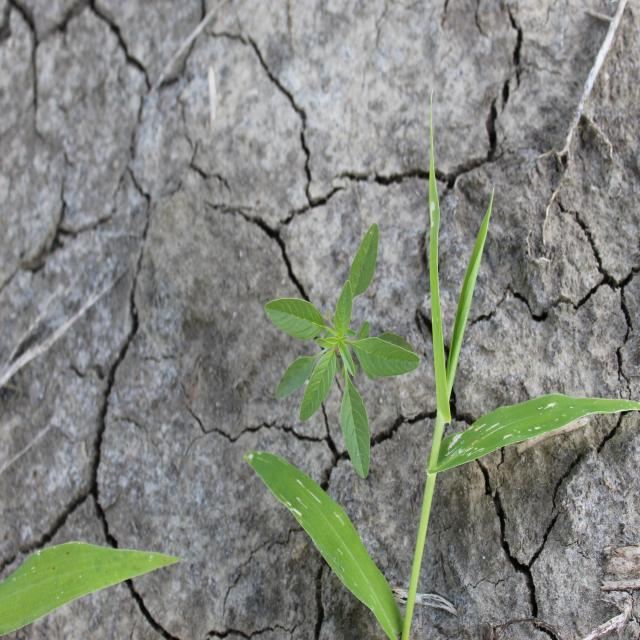Waterhemp: (264, 221, 421, 480)
